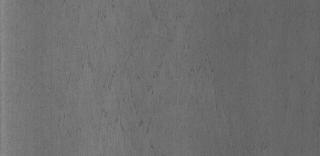silk spot: (100, 44, 182, 122)
